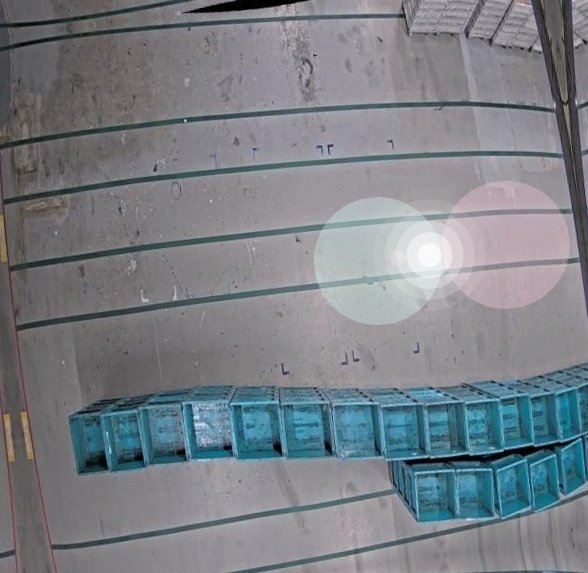Box: (227, 392, 286, 463), (326, 393, 385, 464), (277, 393, 334, 463), (405, 458, 461, 528), (375, 393, 429, 463), (137, 396, 190, 466), (184, 395, 236, 461), (420, 394, 467, 461), (103, 405, 149, 473), (460, 393, 507, 457), (68, 409, 112, 476), (523, 448, 566, 511), (494, 459, 535, 524), (455, 465, 498, 525), (498, 392, 535, 451), (526, 387, 561, 447), (559, 438, 588, 498), (554, 388, 583, 441), (573, 381, 588, 437), (576, 430, 588, 487), (506, 0, 533, 10), (485, 0, 515, 1)
